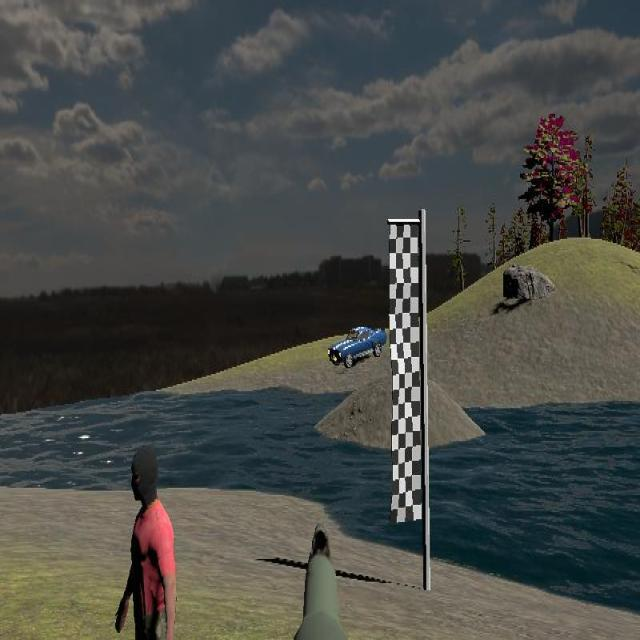Human: (116, 439, 180, 640)
car: (328, 325, 387, 369)
